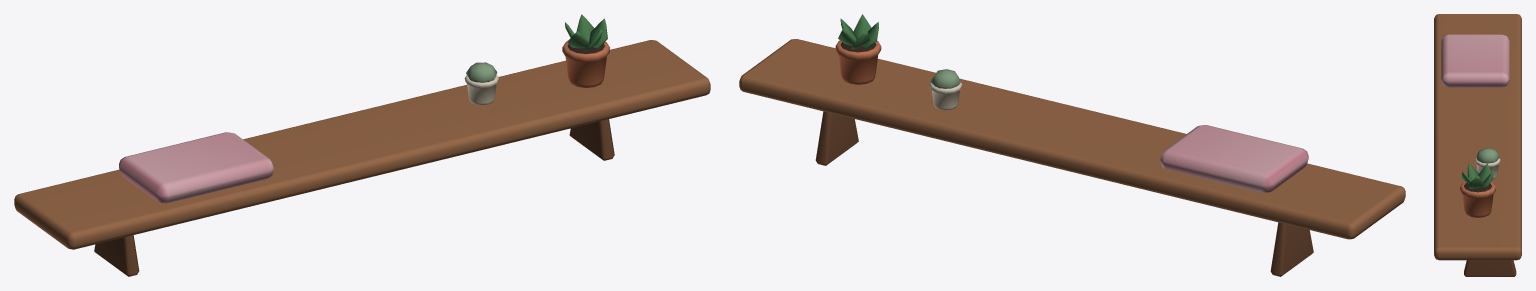
The model's file is cafe_sill.glb.
The picture shows the model from 3 angles, left to right: view 1: azimuth 30°, elevation 25°; view 2: azimuth 150°, elevation 25°; view 3: azimuth 270°, elevation 25°; orthographic projection. The views are drawn at different scales.
Visible parts, largest first — view 1: cafe_sill; view 2: cafe_sill; view 3: cafe_sill.
Part boxes in pixels (<box>): cafe_sill: <box>14,14,710,276</box>; cafe_sill: <box>739,14,1405,276</box>; cafe_sill: <box>1434,14,1521,276</box>.
Bounding box in the file's own units: 2.3 × 0.4601 × 0.36.
